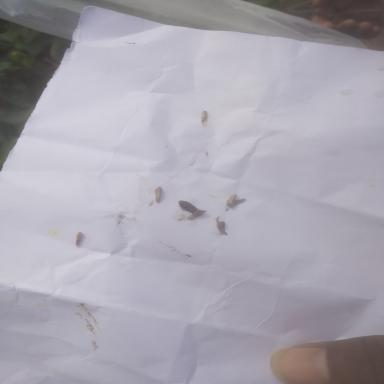pbw: (154, 186, 163, 204), (200, 110, 207, 126)
